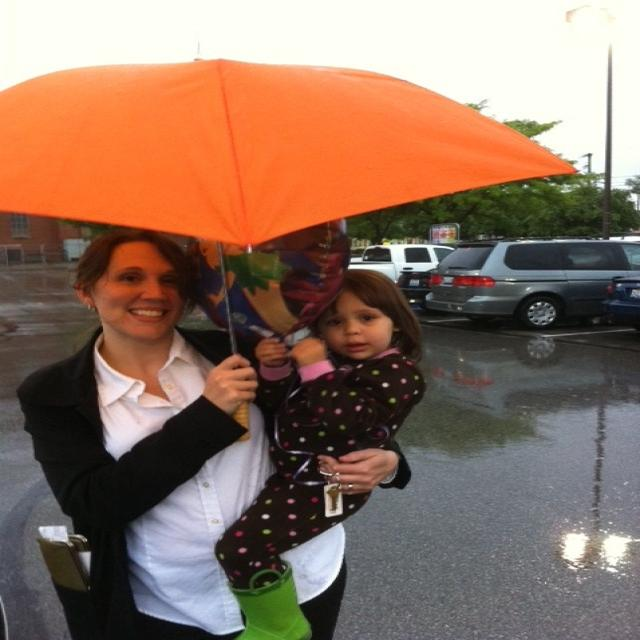Vehicle: (423, 238, 640, 332), (348, 243, 458, 284), (601, 271, 639, 313), (400, 268, 434, 303)
